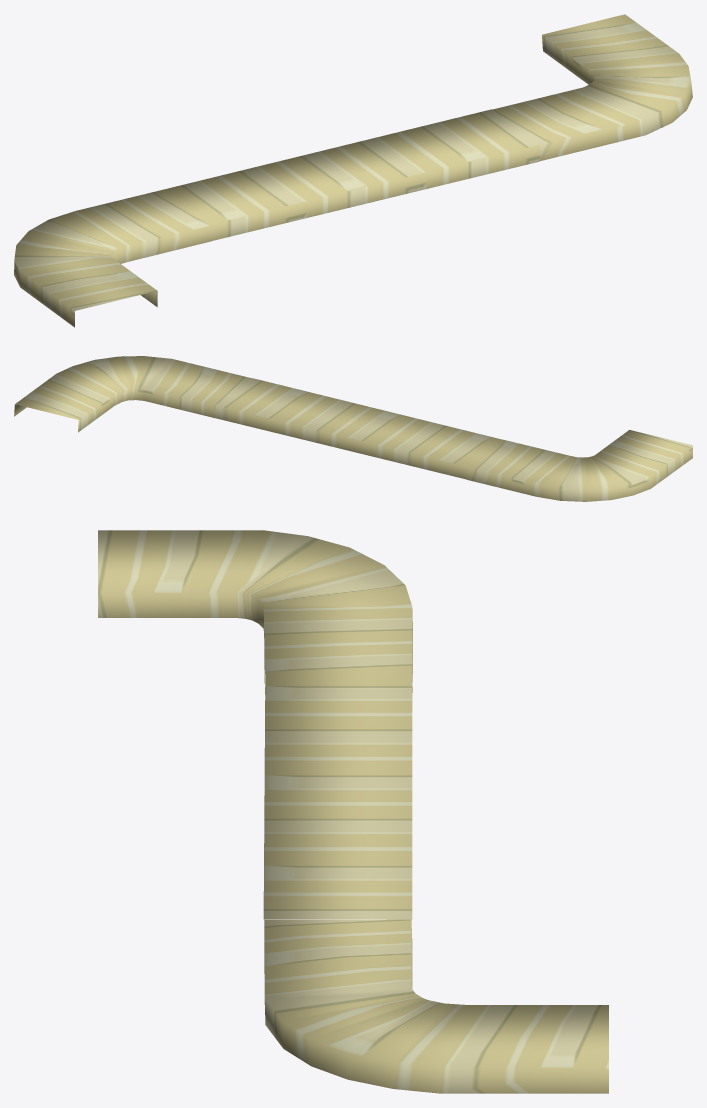
Rendered from TRACK.fbx.
The picture shows the model from 3 angles, top to bottom: view 1: azimuth 30°, elevation 25°; view 2: azimuth 150°, elevation 25°; view 3: azimuth 270°, elevation 25°; orthographic projection. The views are drawn at different scales.
Parts seen in each view (by area): view 1: NurbsPath.036, NurbsPath.004, NurbsPath.003; view 2: NurbsPath.036, NurbsPath.003, NurbsPath.004; view 3: NurbsPath.004, NurbsPath.036, NurbsPath.003.
Part boxes in pixels (left/top/right/bottom): NurbsPath.036: left=165, top=109, right=540, bottom=240; NurbsPath.004: left=493, top=14, right=692, bottom=160; NurbsPath.003: left=14, top=189, right=212, bottom=327; NurbsPath.036: left=215, top=378, right=503, bottom=479; NurbsPath.003: left=467, top=430, right=692, bottom=501; NurbsPath.004: left=14, top=356, right=251, bottom=432; NurbsPath.004: left=264, top=919, right=608, bottom=1093; NurbsPath.036: left=263, top=674, right=412, bottom=919; NurbsPath.003: left=98, top=530, right=412, bottom=694.
Bounding box in the file's own units: 3497 × 80.61 × 1403.
1 material, 1 textured.
